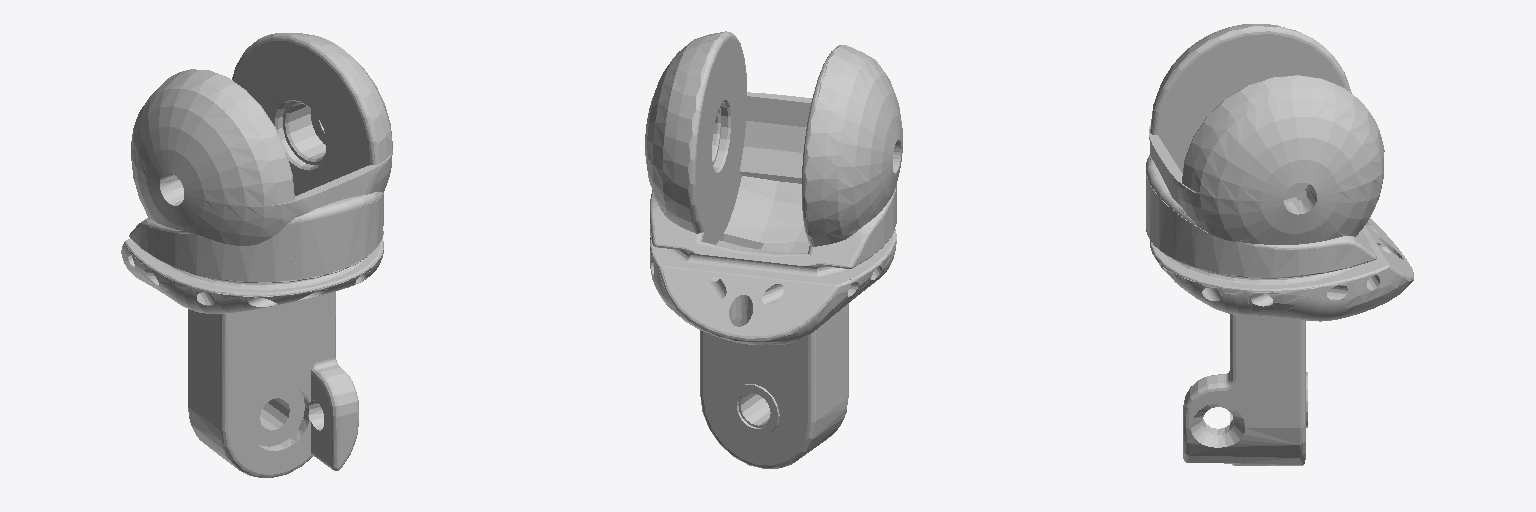
Rendered from armar-7_thumb_basis_right.obj.
3 views of the same model, side by side, from view 1: azimuth 30°, elevation 25°; view 2: azimuth 150°, elevation 25°; view 3: azimuth 270°, elevation 25° (orthographic).
Size of the model in its own units: 0.0222 by 0.0387 by 0.0231.